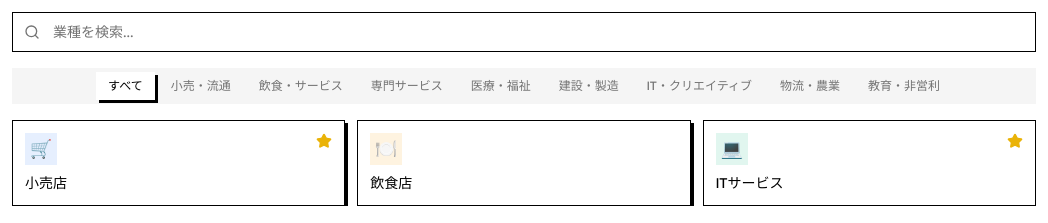
Test: IndustrySelector › should filter by English name
Type "Retail" into the field with placeholder "業種を検索...". click: (524, 32)
box: [12, 12, 1036, 52]
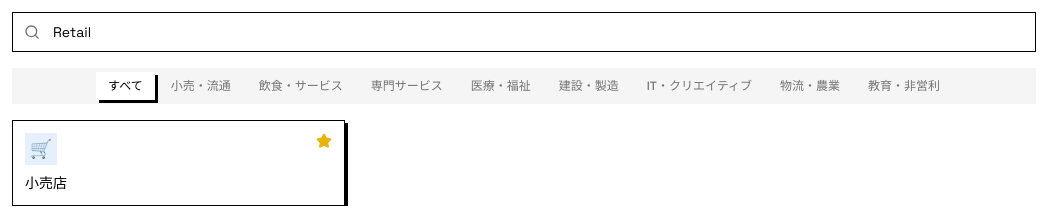
Expected: the heading "小売店" is shown, [25, 174, 67, 192]
Result: the heading "飲食店" is gone
